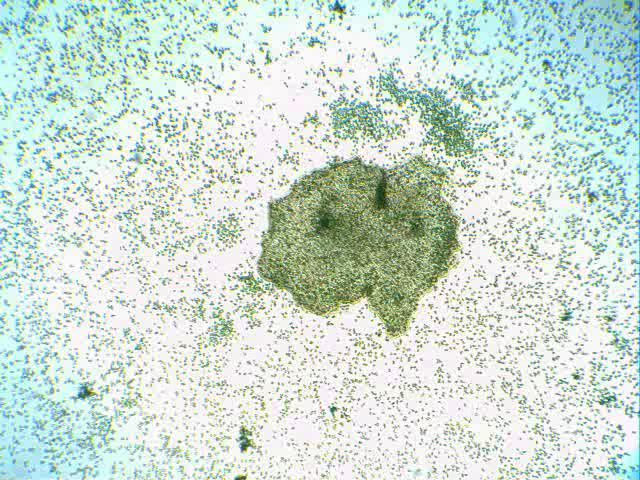Placozoan: (257, 155, 463, 340)
